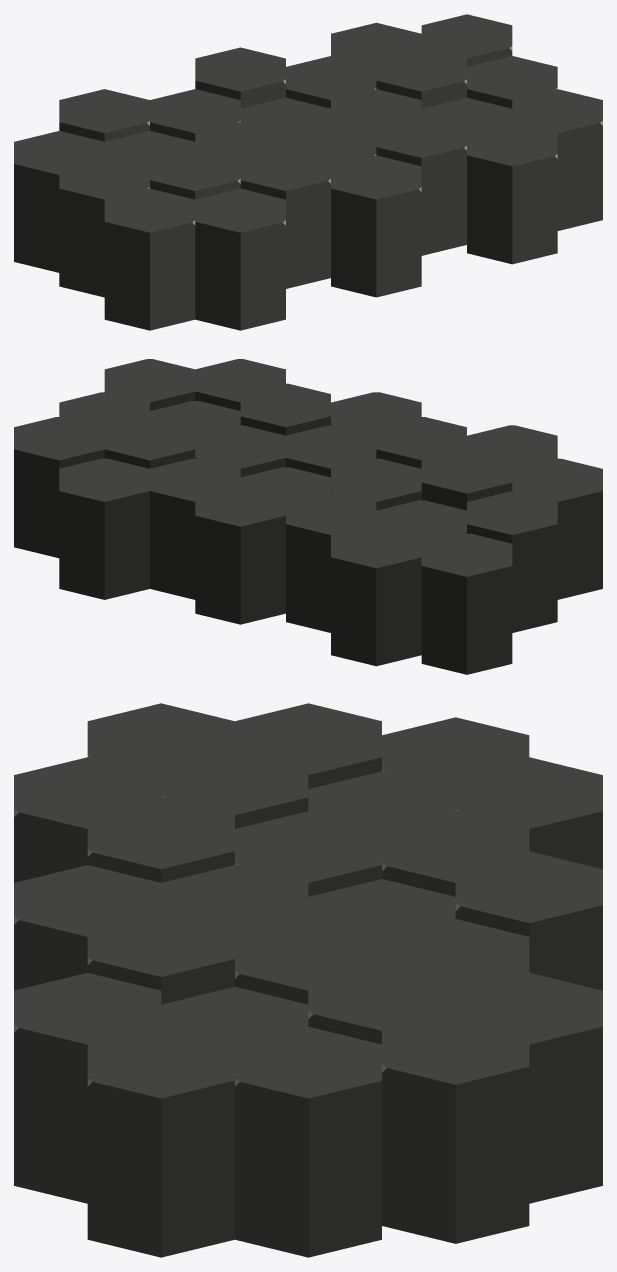
The model's file is hydride.glb.
The picture shows the model from 3 angles, top to bottom: view 1: azimuth 30°, elevation 25°; view 2: azimuth 150°, elevation 25°; view 3: azimuth 270°, elevation 25°; orthographic projection. The views are drawn at different scales.
Parts seen in each view (by area): view 1: hydride; view 2: hydride; view 3: hydride.
Boxes of the visible parts, bbox=[...] form: hydride: bbox=[14, 14, 602, 330]; hydride: bbox=[14, 359, 602, 674]; hydride: bbox=[14, 703, 602, 1257].
Bounding box in the file's own units: 2.09 × 0.4614 × 1.32.
Materials: 1 (1 with a texture image).
